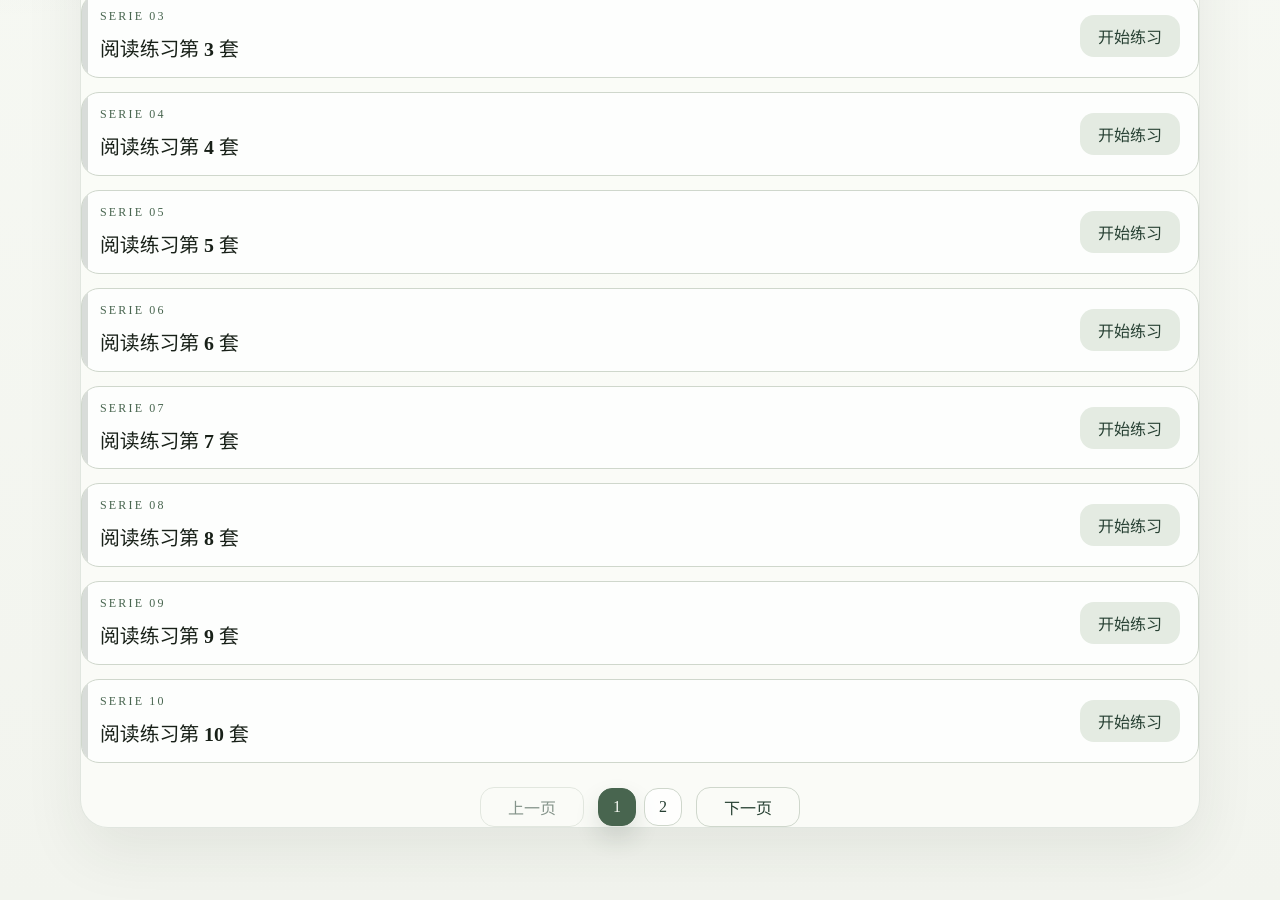
Scenario: ExamSetListPage › paginates exam sets in groups of ten
This screenshot has width=1280, height=900.
(page scrolled)
Expected: the heading "阅读练习第 10 套" is shown, [100, 723, 249, 746]
Expected: the text "阅读练习第 11 套" is not shown
Click the button "2".
click(663, 807)  # box [644, 788, 682, 826]
(page scrolled)
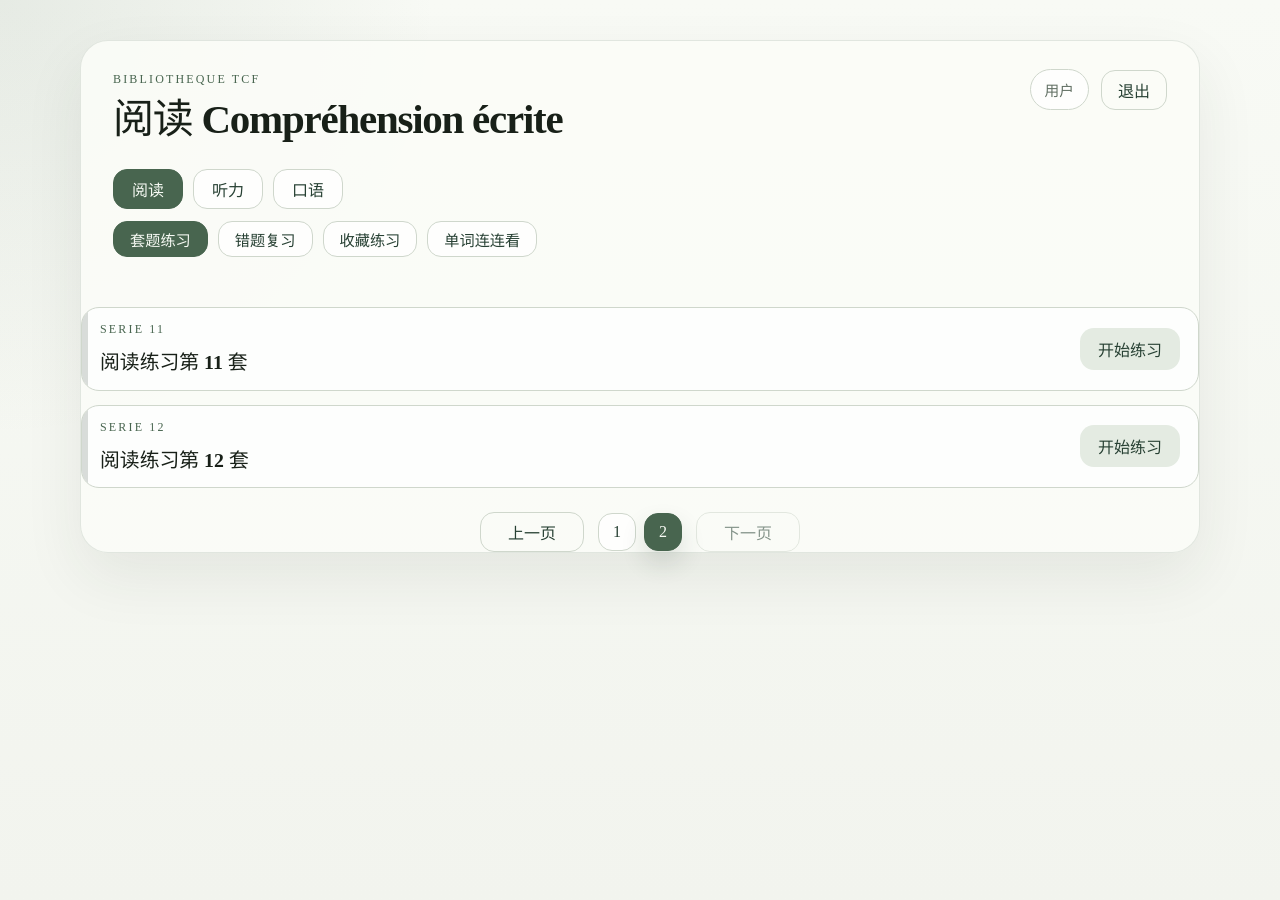
Now the heading "阅读练习第 11 套" is shown, box [100, 351, 248, 374]
Now the heading "阅读练习第 12 套" is shown, box [100, 449, 249, 471]
